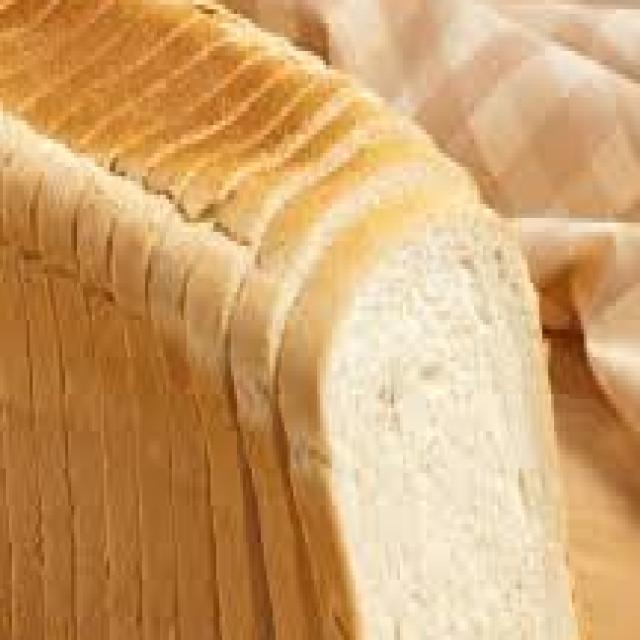inorganic: (5, 6, 573, 636)
